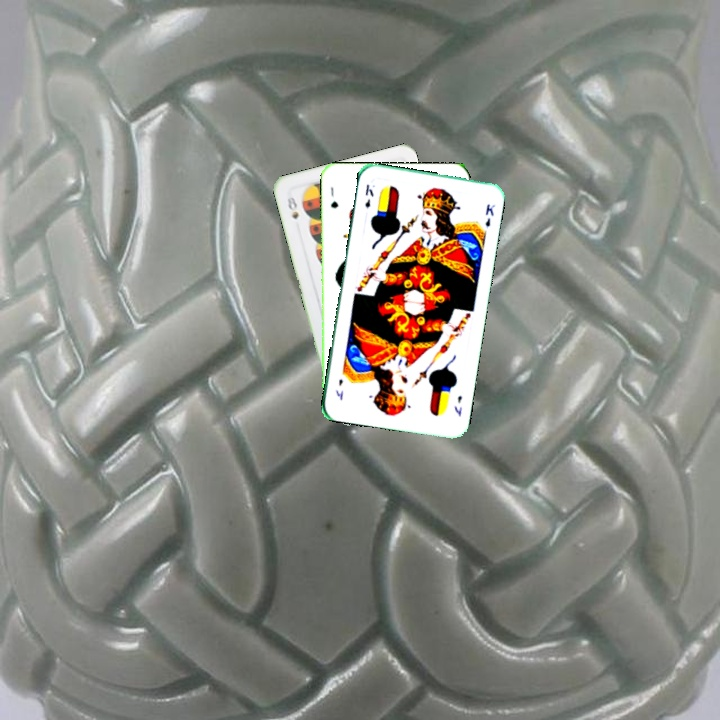EK: (361, 181, 376, 211), (450, 391, 465, 419)
GU: (327, 183, 340, 210)
S8: (283, 193, 301, 222)
